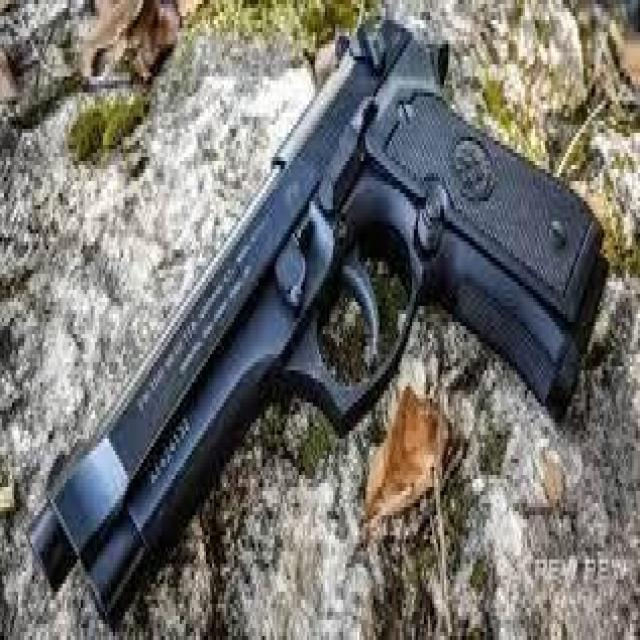gun: (30, 20, 608, 632)
